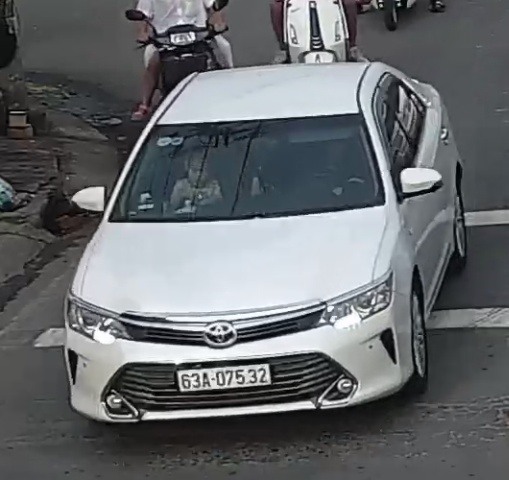vehicle plate: (173, 360, 279, 390)
